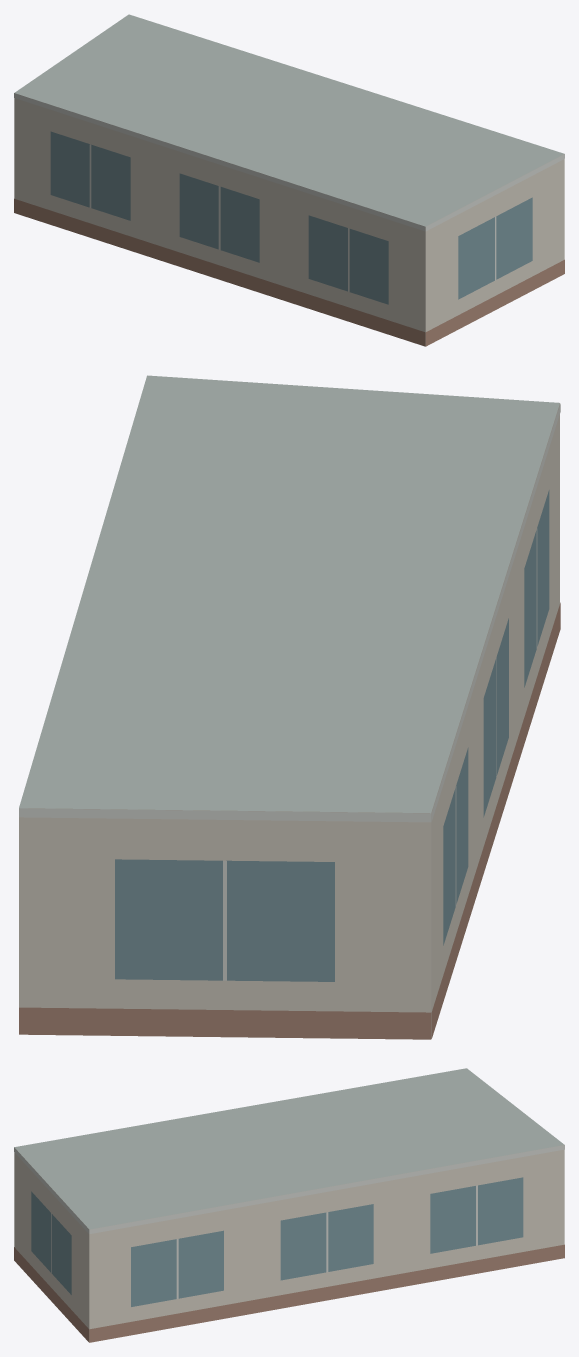
Rendered from survey-upis-32463235.glb.
The picture shows the model from 3 angles, top to bottom: view 1: azimuth 30°, elevation 25°; view 2: azimuth 150°, elevation 25°; view 3: azimuth 270°, elevation 25°; orthographic projection. The views are drawn at different scales.
Parts seen in each view (by area): view 1: survey-upis-32463235.tmp; view 2: survey-upis-32463235.tmp; view 3: survey-upis-32463235.tmp.
Part boxes in pixels (<box>): survey-upis-32463235.tmp: <box>14,14,564,346</box>; survey-upis-32463235.tmp: <box>19,375,560,1039</box>; survey-upis-32463235.tmp: <box>14,1068,564,1342</box>.
Bounding box in the file's own units: 9.34 × 3.05 × 13.46.
